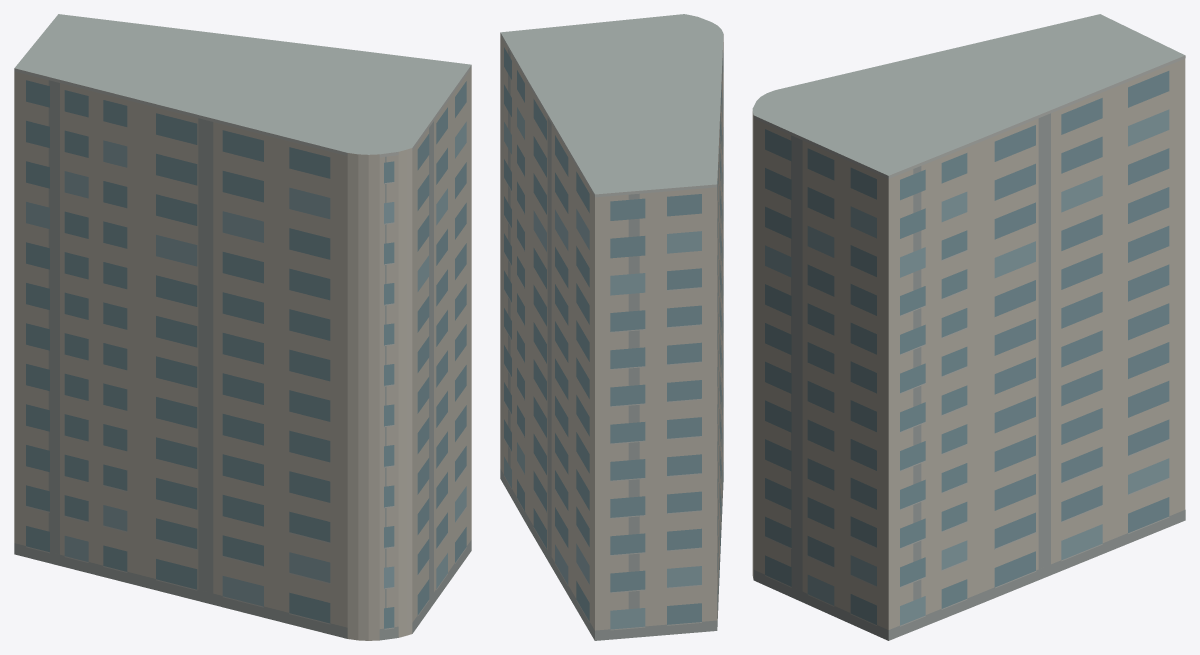
File: survey-upis-32591781.glb
3 views of the same model, side by side, from view 1: azimuth 30°, elevation 25°; view 2: azimuth 150°, elevation 25°; view 3: azimuth 270°, elevation 25° (orthographic). The views are drawn at different scales.
Visible parts, largest first — view 1: survey-upis-32591781.tmp; view 2: survey-upis-32591781.tmp; view 3: survey-upis-32591781.tmp.
Part boxes in pixels (left/top/right/bottom): survey-upis-32591781.tmp: left=14, top=14, right=471, bottom=640; survey-upis-32591781.tmp: left=500, top=14, right=723, bottom=640; survey-upis-32591781.tmp: left=752, top=14, right=1185, bottom=640.
Size of the model in its own units: 27.32 by 36.6 by 30.88.
